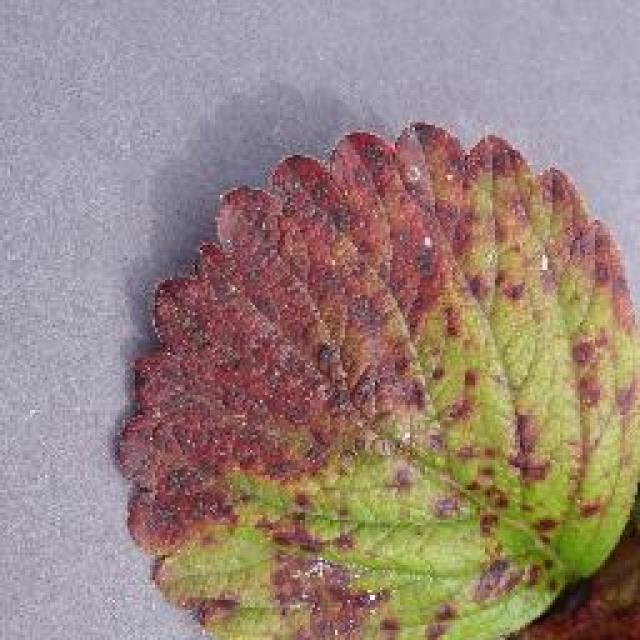Strawberry leaf scorch: (157, 162, 565, 628)
